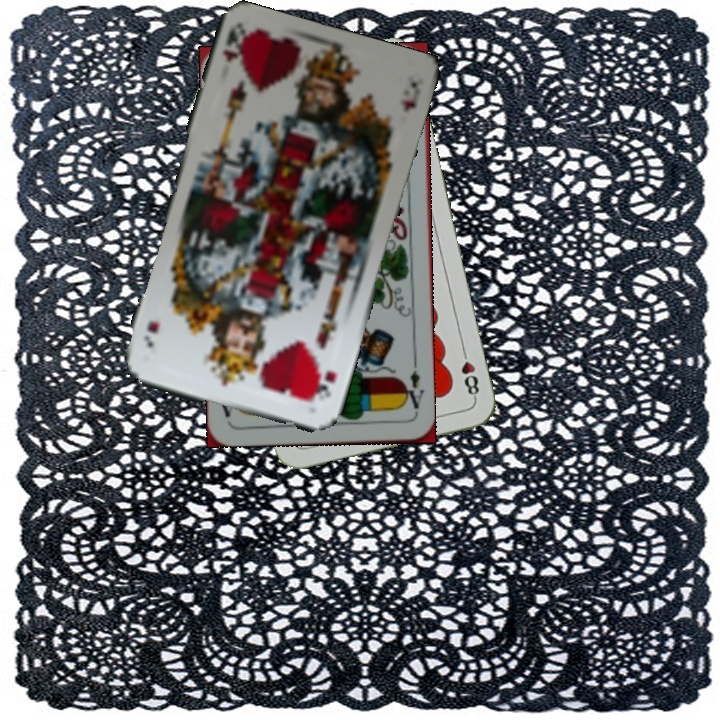EA: (399, 366, 426, 411)
H8: (457, 343, 482, 402)
HK: (218, 24, 249, 66), (308, 366, 339, 405)
